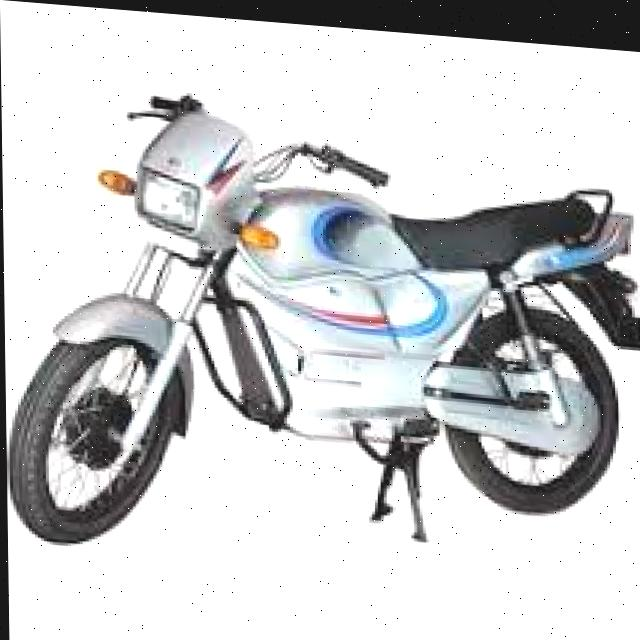bike: (4, 78, 640, 585)
